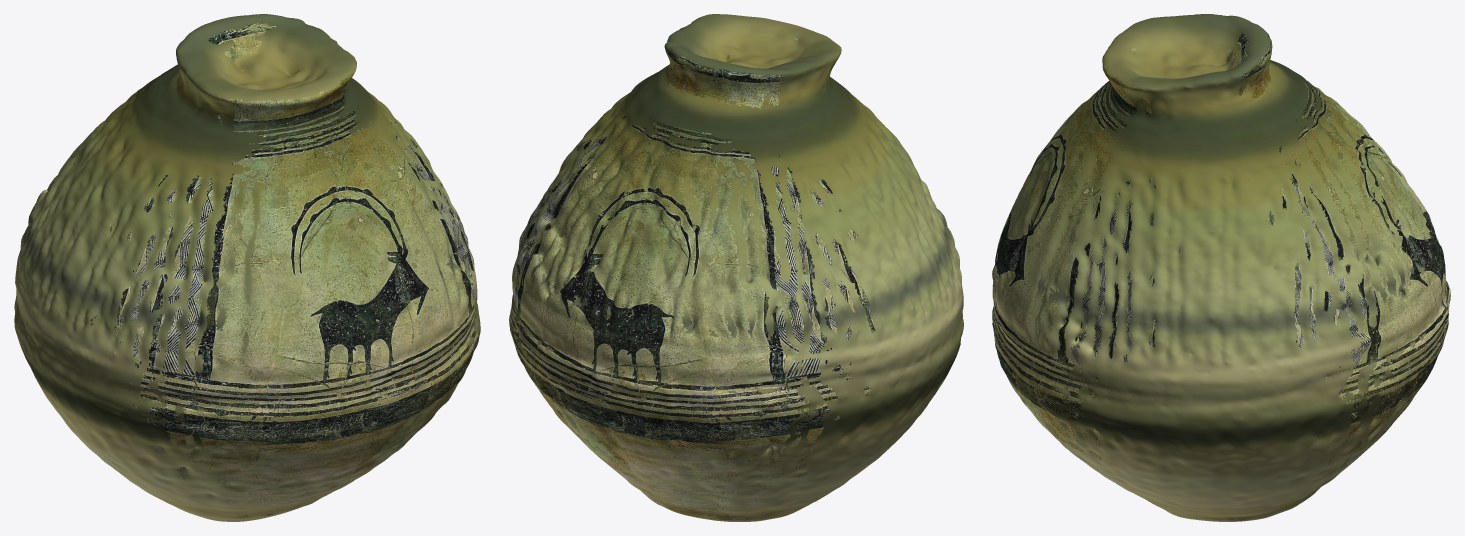
File: ane-01.glb
The picture shows the model from 3 angles, left to right: view 1: azimuth 30°, elevation 25°; view 2: azimuth 150°, elevation 25°; view 3: azimuth 270°, elevation 25°; orthographic projection. The views are drawn at different scales.
Visible parts, largest first — view 1: ane-01; view 2: ane-01; view 3: ane-01.
Part boxes in pixels (left/top/right/bottom): ane-01: left=14, top=14, right=480, bottom=521; ane-01: left=509, top=14, right=963, bottom=521; ane-01: left=992, top=14, right=1450, bottom=521.
Size of the model in its own units: 0.9257 by 0.9984 by 0.9139.
Materials: 4 (4 with a texture image).
